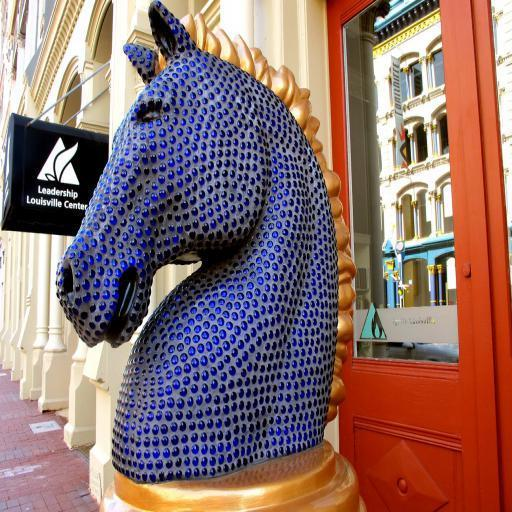horse: (54, 0, 356, 483)
